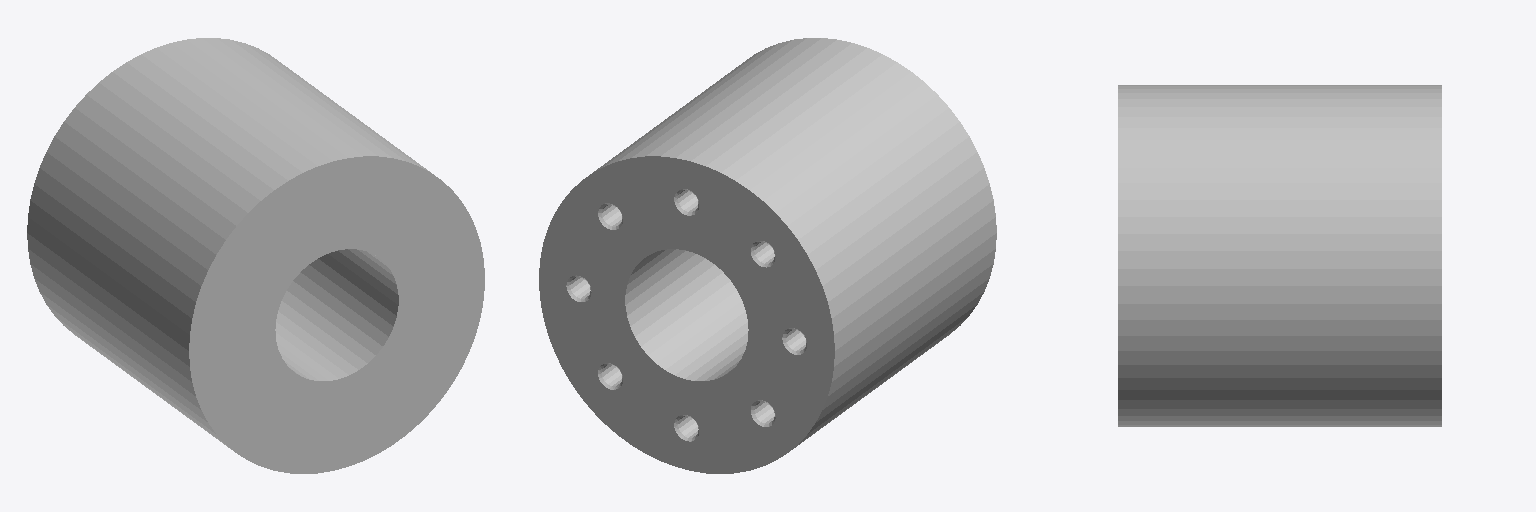
File: gearboxOutput.obj
The picture shows the model from 3 angles: view 1: azimuth 30°, elevation 25°; view 2: azimuth 150°, elevation 25°; view 3: azimuth 270°, elevation 25°; orthographic projection.
Visible parts, largest first — view 1: Body1; view 2: Body1; view 3: Body1.
Part boxes in pixels (x1,y1,x2,y2): Body1: (27, 38, 484, 473); Body1: (539, 38, 996, 473); Body1: (1118, 85, 1441, 426).
Size of the model in its own units: 4.8 by 4.8 by 4.55.